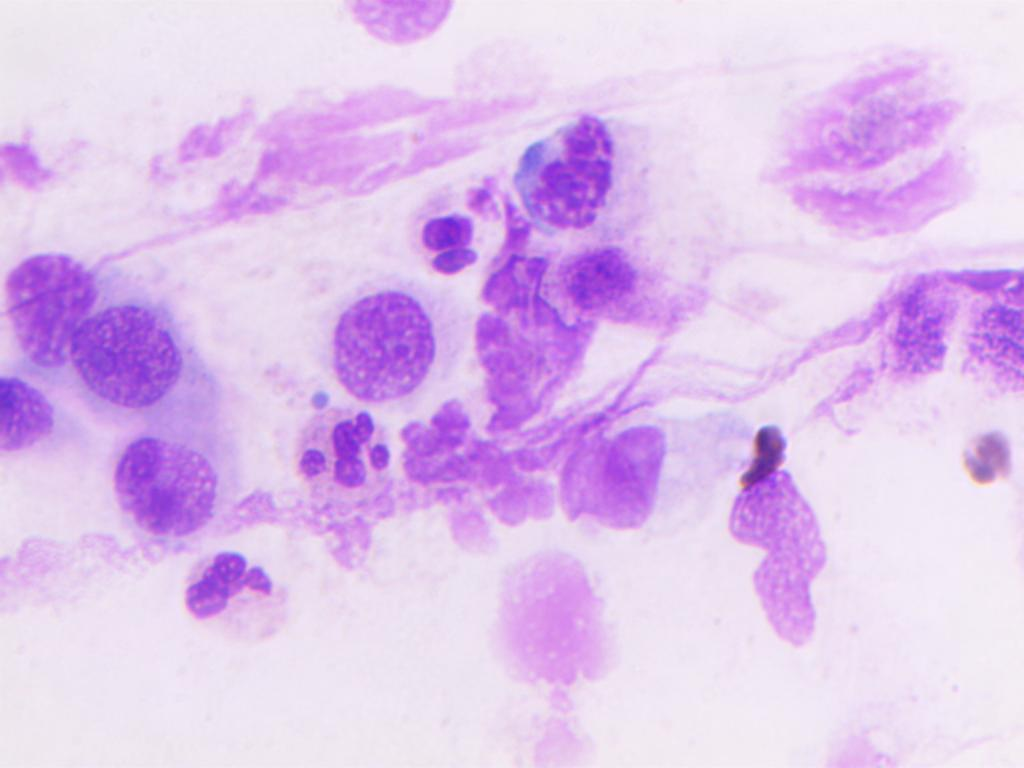artifact: (128, 61, 509, 224), (762, 41, 973, 250), (716, 404, 834, 653), (818, 262, 1024, 401), (489, 549, 629, 683), (481, 251, 579, 429), (559, 422, 680, 543), (0, 107, 102, 203), (943, 423, 1020, 492)
epithelial: (313, 272, 474, 408), (518, 112, 637, 243), (93, 424, 214, 540), (2, 244, 97, 374), (74, 292, 185, 400), (340, 0, 474, 64), (0, 366, 70, 467), (560, 241, 647, 316)
neutrophil: (174, 552, 298, 646), (407, 169, 504, 280), (386, 389, 478, 501), (291, 399, 397, 491), (474, 439, 567, 532)
